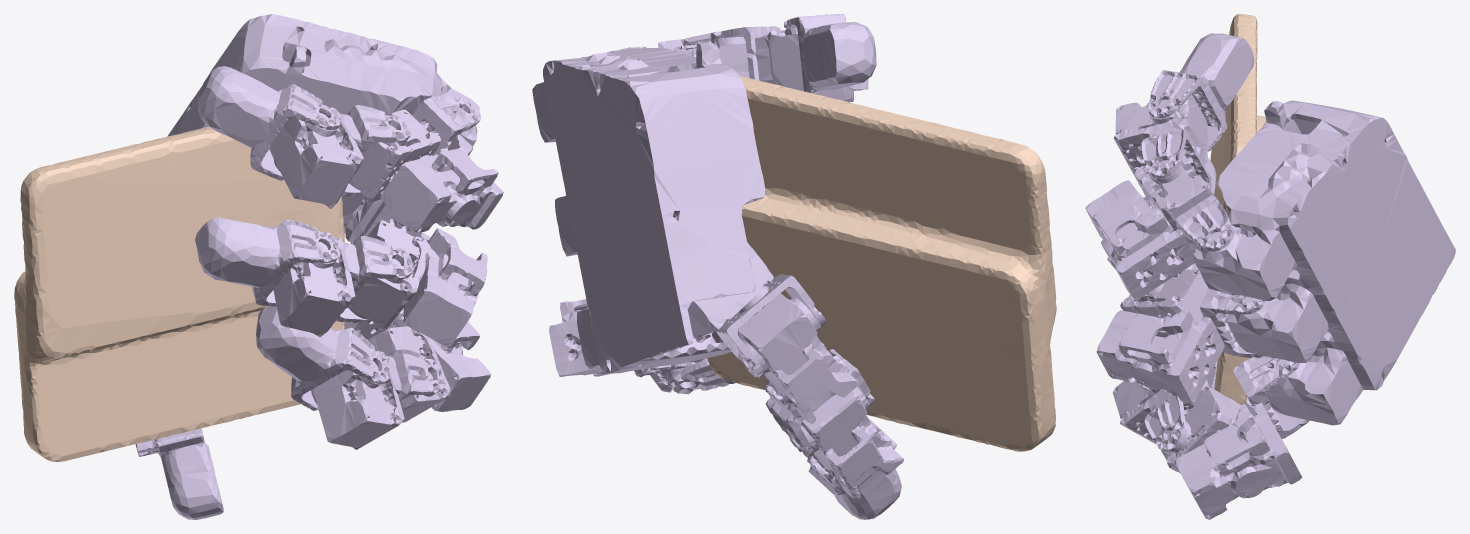
File: 0f0a604d7a6e47-closed.glb
3 renders of one model, left to right at view 1: azimuth 30°, elevation 25°; view 2: azimuth 150°, elevation 25°; view 3: azimuth 270°, elevation 25°, orthographic. The views are drawn at different scales.
Visible parts, largest first — view 1: LEAP_hand, world; view 2: LEAP_hand, world; view 3: LEAP_hand, world.
Part boxes in pixels (x1,y1,x2,y2): LEAP_hand: (135,14,503,519); world: (14,104,344,461); LEAP_hand: (532,14,904,519); world: (707,75,1056,451); LEAP_hand: (1085,33,1455,519); world: (1210,14,1265,405).
Bounding box in the file's own units: 0.2256 × 0.2067 × 0.1617.
